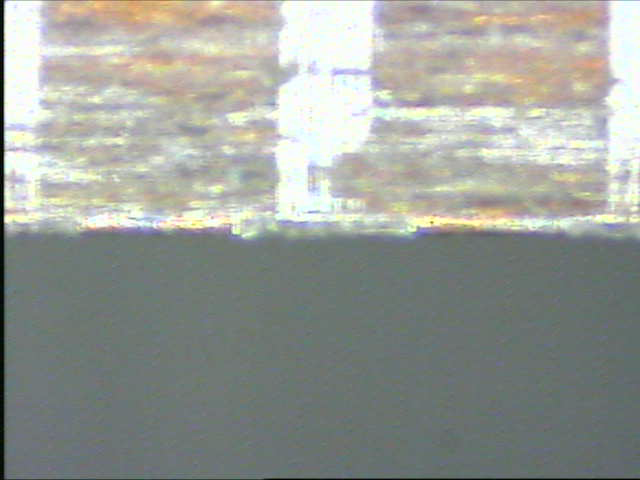line: (274, 1, 377, 216)
